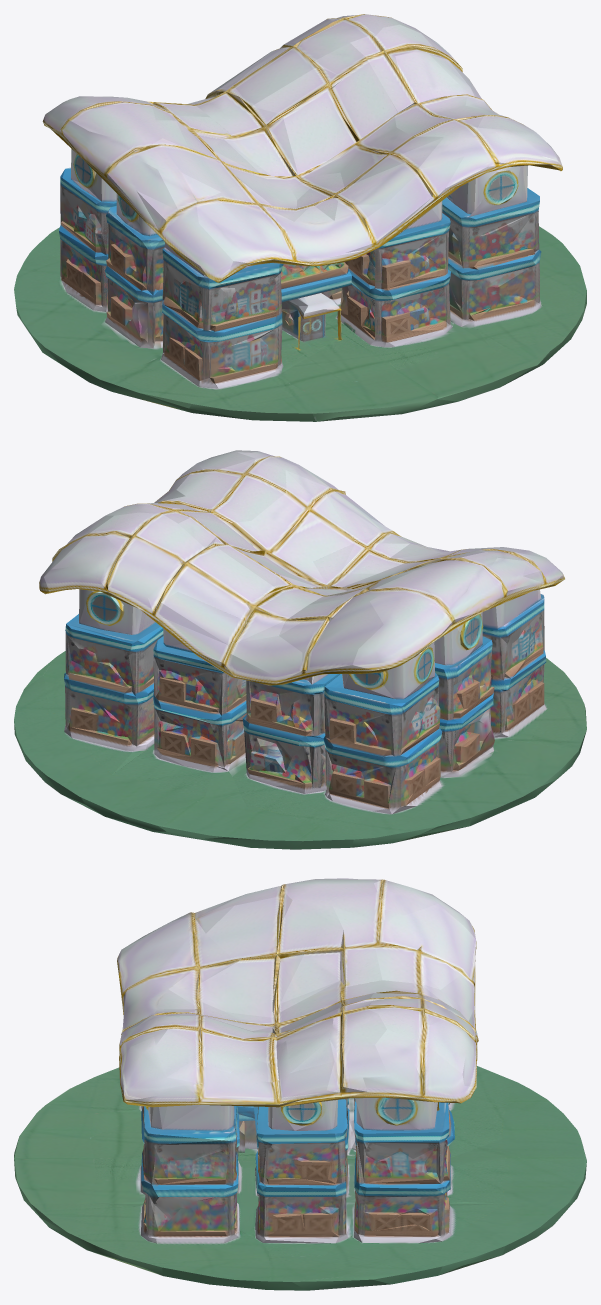
File: market.glb
The picture shows the model from 3 angles, top to bottom: view 1: azimuth 30°, elevation 25°; view 2: azimuth 150°, elevation 25°; view 3: azimuth 270°, elevation 25°; orthographic projection.
Parts seen in each view (by area): view 1: Mesh_0; view 2: Mesh_0; view 3: Mesh_0.
Part boxes in pixels (x1,y1,x2,y2): Mesh_0: (14, 14, 586, 421); Mesh_0: (14, 450, 586, 849); Mesh_0: (14, 878, 586, 1290).
Bounding box in the file's own units: 1.9 × 0.7915 × 1.9.
Materials: 1 (1 with a texture image).
